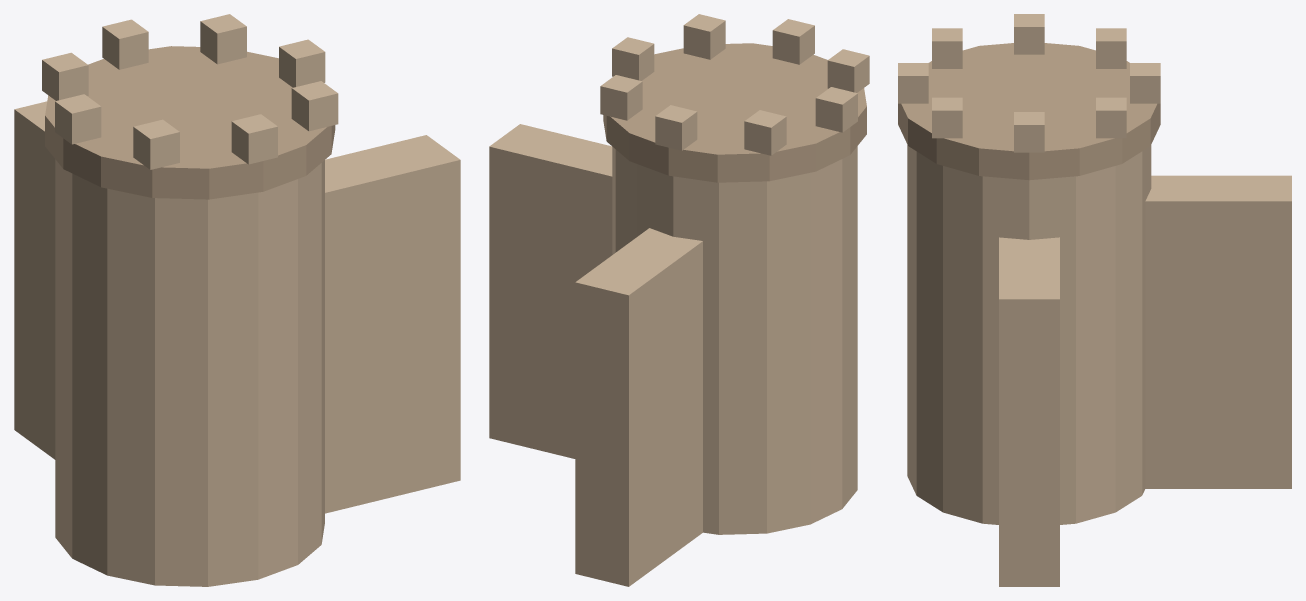
File: CaravanseraiTower.glb
3 views of the same model, side by side, from view 1: azimuth 30°, elevation 25°; view 2: azimuth 150°, elevation 25°; view 3: azimuth 270°, elevation 25° (orthographic). The views are drawn at different scales.
Visible parts, largest first — view 1: Corner tower, Wall stub, Tower crown, Wall stub.001, Merlon.007, Merlon.002, Merlon.001, Merlon.004, Merlon.005, Merlon.006, Merlon.003, Merlon; view 2: Corner tower, Wall stub.001, Wall stub, Tower crown, Merlon.003, Merlon.007, Merlon.004, Merlon.006, Merlon.001, Merlon.002, Merlon, Merlon.005; view 3: Corner tower, Wall stub.001, Tower crown, Wall stub, Merlon.001, Merlon.007, Merlon, Merlon.002, Merlon.003, Merlon.004, Merlon.005, Merlon.006.
Part boxes in pixels (x1,y1,x2,y2): Corner tower: [55, 159, 324, 586]; Wall stub: [325, 135, 460, 513]; Tower crown: [45, 46, 335, 199]; Wall stub.001: [14, 101, 55, 459]; Merlon.007: [291, 81, 338, 131]; Merlon.002: [102, 19, 148, 69]; Merlon.001: [200, 14, 246, 64]; Merlon.004: [55, 94, 101, 144]; Merlon.005: [133, 119, 179, 169]; Merlon.006: [231, 114, 277, 164]; Merlon.003: [42, 52, 88, 100]; Merlon: [279, 39, 325, 87]; Corner tower: [612, 146, 857, 534]; Wall stub.001: [575, 228, 702, 586]; Wall stub: [489, 124, 612, 458]; Tower crown: [603, 43, 866, 182]; Merlon.003: [744, 110, 786, 155]; Merlon.007: [683, 14, 725, 59]; Merlon.004: [815, 87, 857, 132]; Merlon.006: [772, 19, 814, 64]; Merlon.001: [600, 75, 642, 120]; Merlon.002: [655, 105, 697, 150]; Merlon: [612, 37, 654, 80]; Merlon.005: [827, 49, 869, 92]; Corner tower: [907, 145, 1151, 524]; Wall stub.001: [1145, 175, 1291, 488]; Tower crown: [898, 43, 1160, 180]; Wall stub: [999, 237, 1059, 586]; Merlon.001: [1096, 97, 1126, 138]; Merlon.007: [932, 97, 962, 138]; Merlon: [1014, 112, 1044, 152]; Merlon.002: [1130, 63, 1160, 103]; Merlon.003: [1096, 28, 1126, 68]; Merlon.004: [1014, 14, 1044, 54]; Merlon.005: [932, 28, 962, 68]; Merlon.006: [898, 63, 928, 103].
Size of the model in its own units: 6.45 by 7.35 by 6.45.
